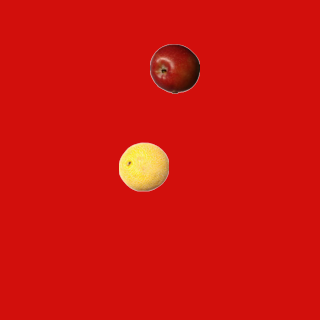Apple Braeburn: (149, 43, 199, 93)
Cantaloupe 1: (118, 141, 168, 191)
